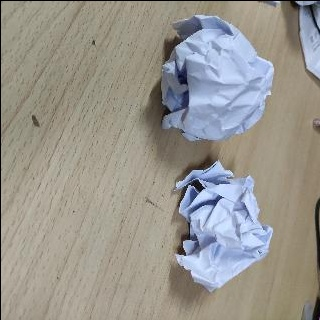8/可回收垃圾/纸: (159, 14, 274, 143), (173, 159, 274, 293)
